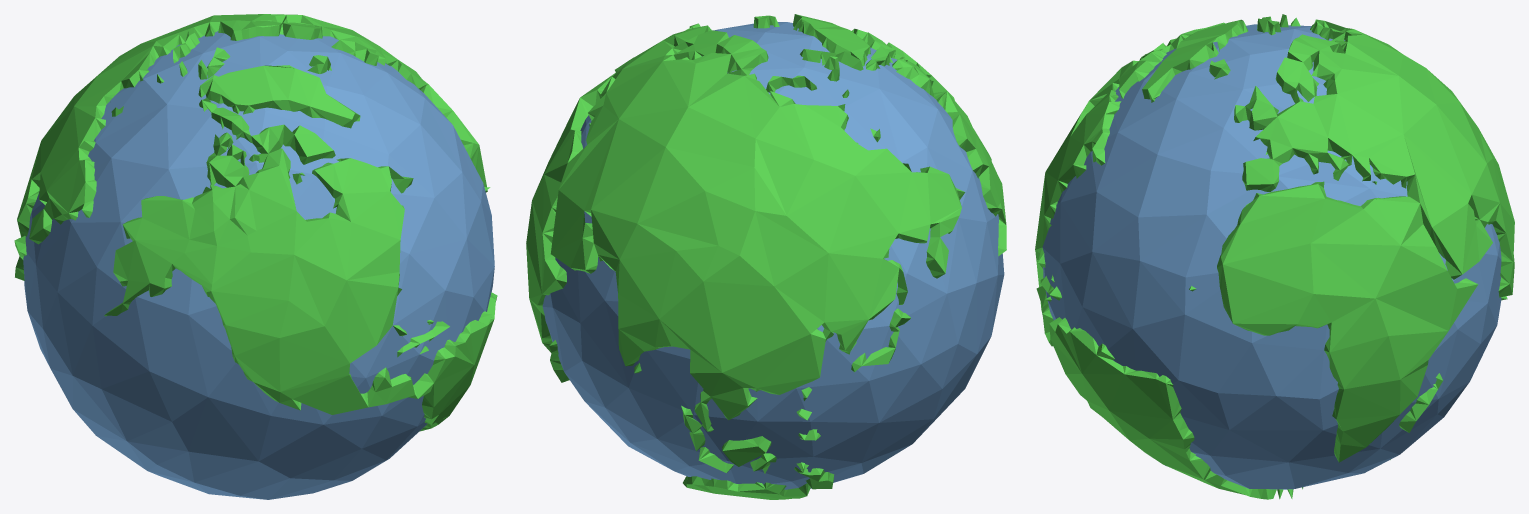
Rendered from low_poly_earth.dae.
3 views of the same model, side by side, from view 1: azimuth 30°, elevation 25°; view 2: azimuth 150°, elevation 25°; view 3: azimuth 270°, elevation 25° (orthographic).
Parts seen in each view (by area): view 1: low_poly_earth; view 2: low_poly_earth; view 3: low_poly_earth.
Part boxes in pixels (bbox=[...]): low_poly_earth: bbox=[14, 14, 497, 499]; low_poly_earth: bbox=[526, 14, 1006, 499]; low_poly_earth: bbox=[1035, 14, 1514, 499].
Bounding box in the file's own units: 1.95 × 1.99 × 2.01.
